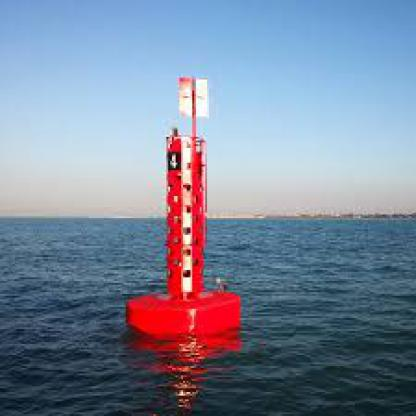buoy: (118, 69, 250, 348)
